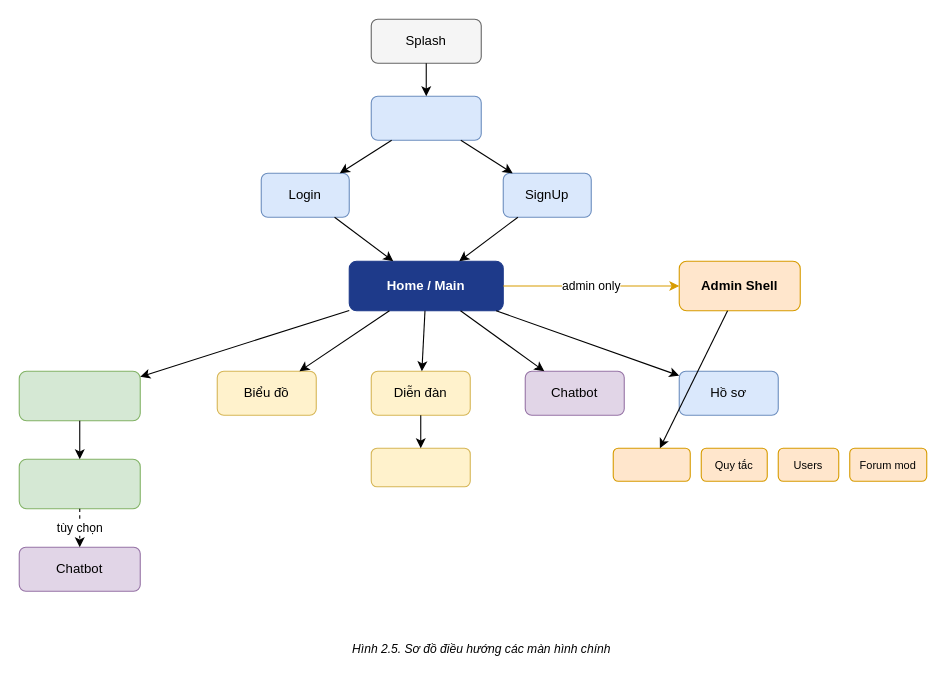
Image size: 946x688. Some labels were removed from this diagram. The centre of each missing label's shape, as x and y in pixels:
"Chi tiết bài" goes at point 420,467.
"Dashboard" goes at point 651,464.
"Kết quả gợi ý" goes at point 79,483.
"Welcome" goes at point 425,117.
"Wizard Định hướng" goes at point 79,395.
